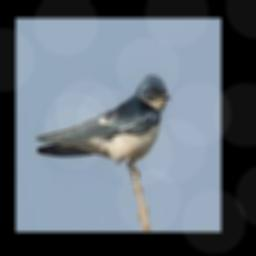Swallow: (35, 74, 170, 172)
